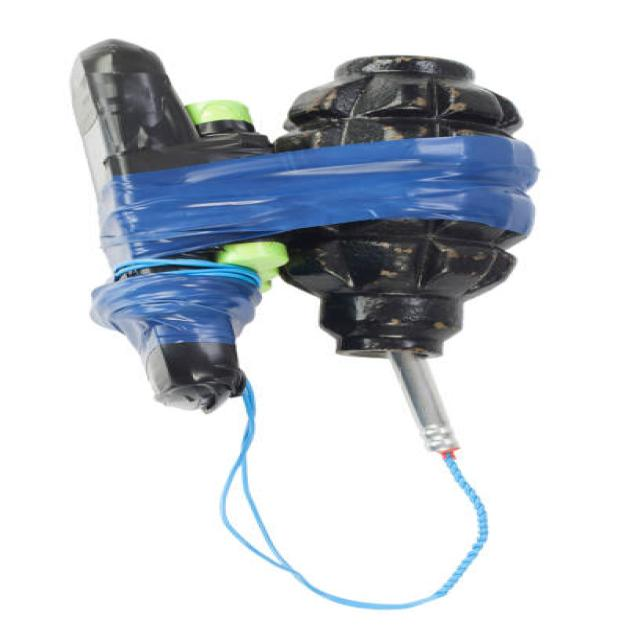grenade: (261, 49, 547, 365)
